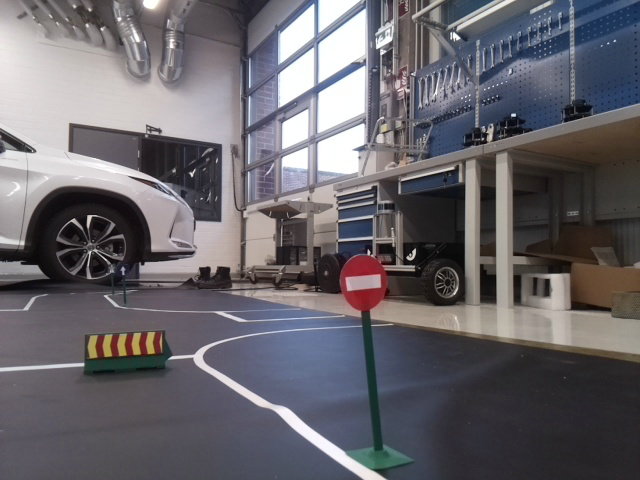ClosedRoadStand: (83, 332, 165, 361)
NoEntry: (337, 250, 389, 310)
